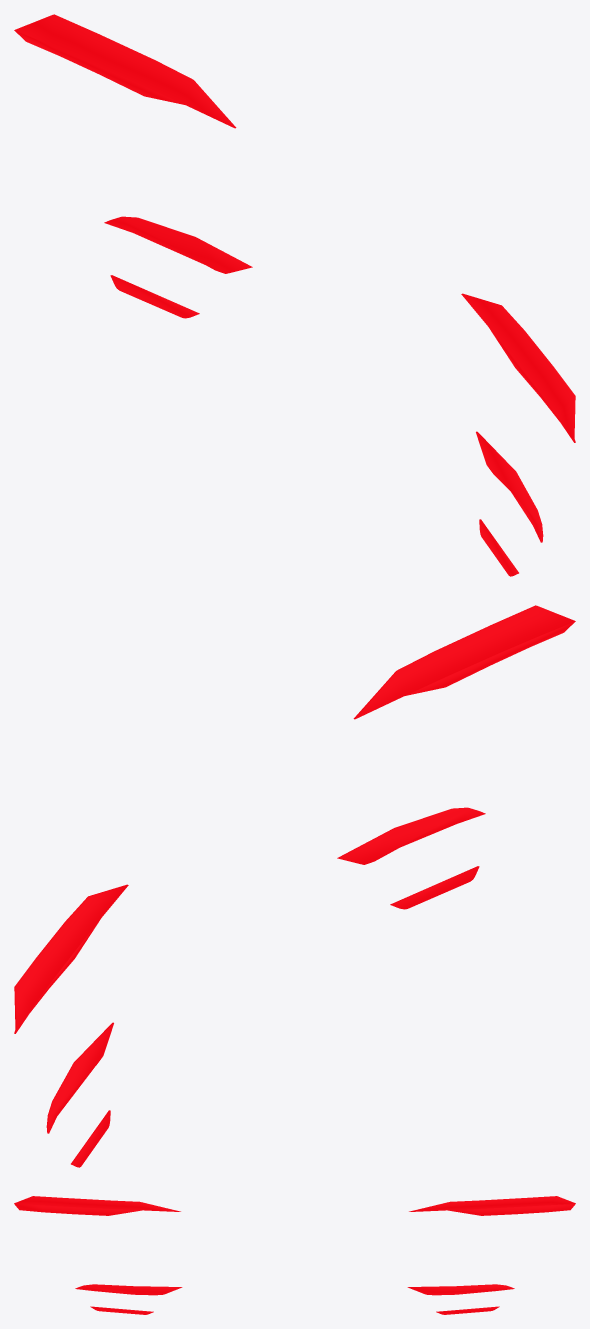
Rendered from brakeLights.glb.
The picture shows the model from 3 angles, top to bottom: view 1: azimuth 30°, elevation 25°; view 2: azimuth 150°, elevation 25°; view 3: azimuth 270°, elevation 25°; orthographic projection. The views are drawn at different scales.
Visible parts, largest first — view 1: Car 01_Body.001; view 2: Car 01_Body.001; view 3: Car 01_Body.001.
Part boxes in pixels (bbox=[...]): Car 01_Body.001: bbox=[14, 14, 575, 576]; Car 01_Body.001: bbox=[14, 605, 575, 1167]; Car 01_Body.001: bbox=[14, 1196, 575, 1314].
Size of the model in its own units: 0.2144 by 0.6624 by 2.89.
